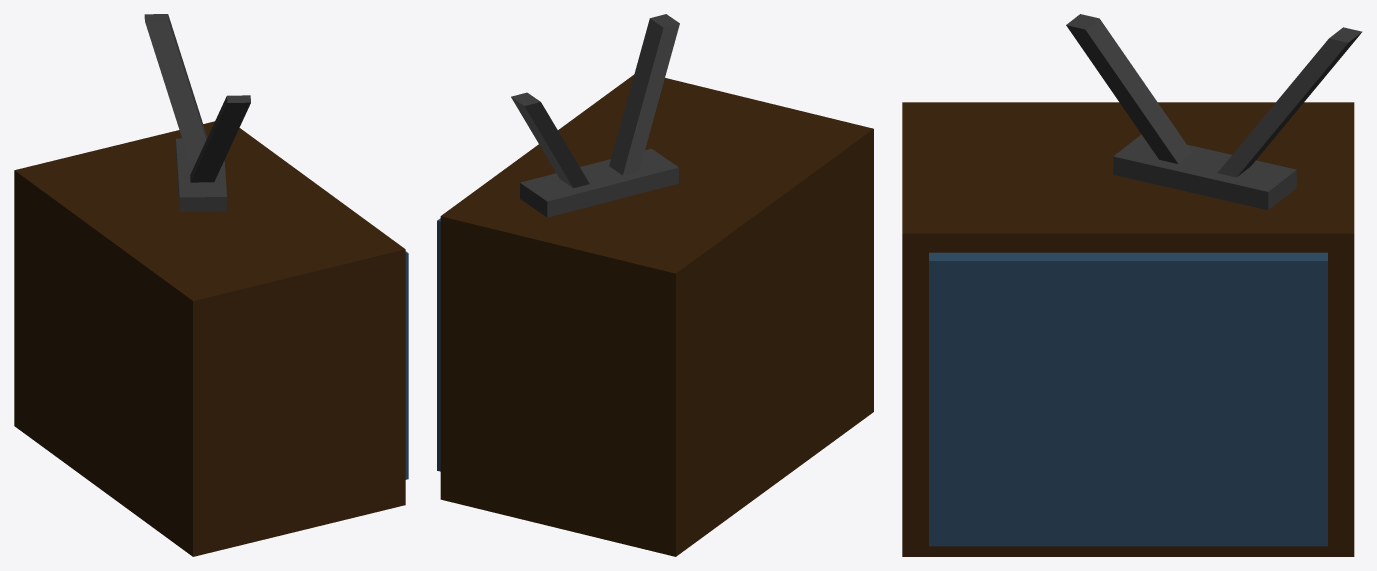
The picture shows the model from 3 angles, left to right: view 1: azimuth 30°, elevation 25°; view 2: azimuth 150°, elevation 25°; view 3: azimuth 270°, elevation 25°; orthographic projection. The views are drawn at different scales.
Parts seen in each view (by area): view 1: tv, antena; view 2: tv, antena; view 3: tv, antena.
Boxes of the visible parts, x1=… form: tv: x1=14, y1=121, x2=408, y2=556; antena: x1=144, y1=14, x2=250, y2=211; tv: x1=437, y1=74, x2=873, y2=556; antena: x1=511, y1=14, x2=679, y2=217; tv: x1=902, y1=102, x2=1354, y2=556; antena: x1=1066, y1=14, x2=1362, y2=209.
Size of the model in its own units: 1.68 by 1.21 by 1.92.
